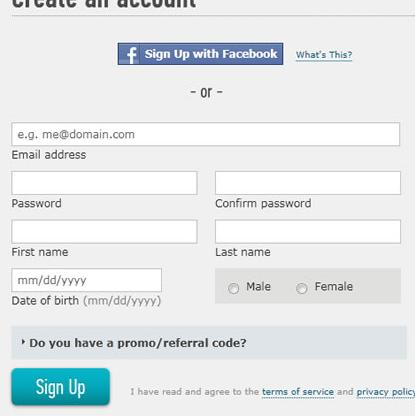button: (10, 367, 111, 408), (118, 42, 283, 66)
field: (11, 121, 402, 147), (7, 170, 198, 196), (10, 219, 199, 245), (214, 219, 400, 245), (214, 171, 402, 196), (10, 268, 163, 293)
field_with_label: (8, 120, 403, 159), (211, 168, 404, 208), (4, 168, 200, 207), (8, 217, 201, 256), (211, 218, 402, 257), (8, 266, 165, 307)
radio: (225, 280, 241, 295), (296, 280, 309, 295)
radio_with_label: (293, 279, 353, 297), (222, 277, 273, 297)
